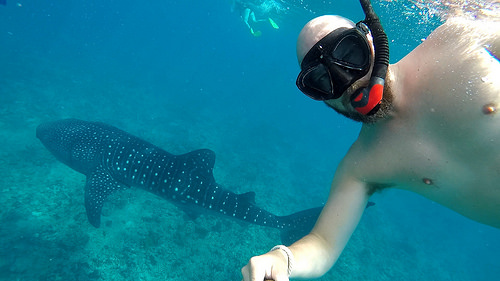shark: (24, 98, 343, 250)
